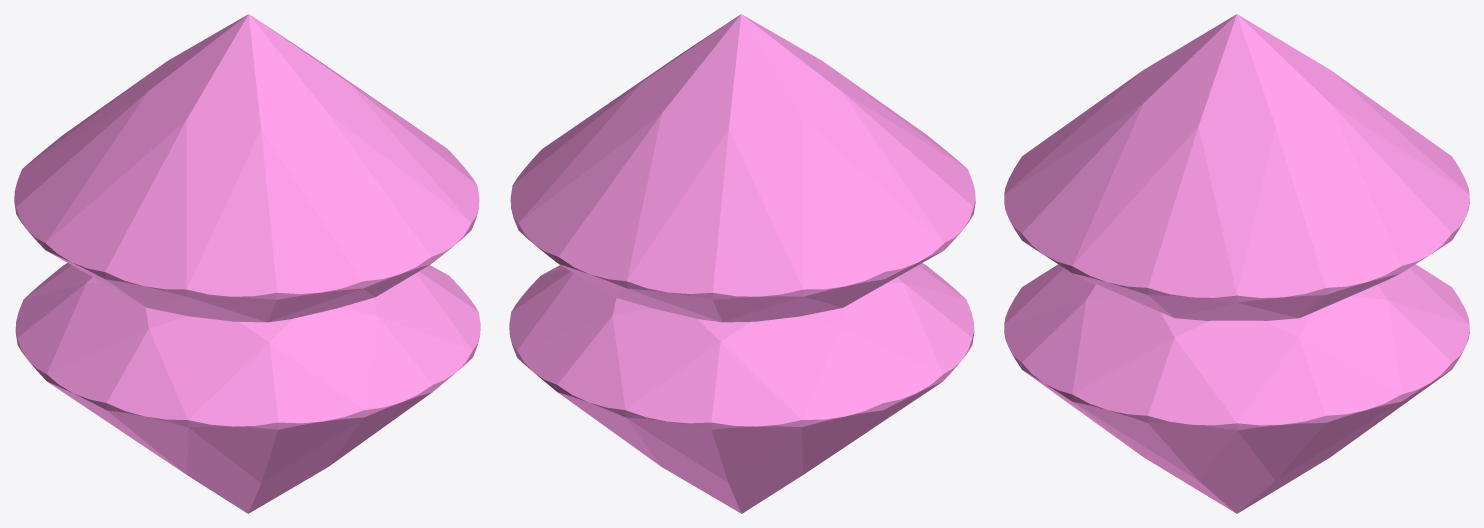
File: gem.glb
3 renders of one model, left to right at view 1: azimuth 30°, elevation 25°; view 2: azimuth 150°, elevation 25°; view 3: azimuth 270°, elevation 25°, orthographic.
Parts seen in each view (by area): view 1: diamondpink, diamondwhite; view 2: diamondpink, diamondwhite; view 3: diamondpink, diamondwhite.
Boxes of the visible parts, left/top/right/bottom form: diamondpink: left=14, top=14, right=479, bottom=322; diamondwhite: left=15, top=263, right=480, bottom=513; diamondpink: left=510, top=14, right=975, bottom=322; diamondwhite: left=509, top=263, right=974, bottom=513; diamondpink: left=1004, top=14, right=1469, bottom=320; diamondwhite: left=1004, top=264, right=1469, bottom=513.
Bounding box in the file's own units: 2.01 × 2.37 × 2.
